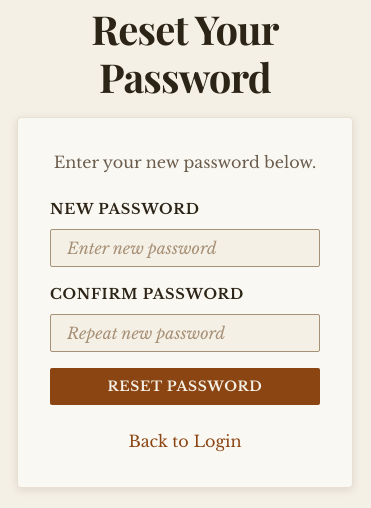
Test: PasswordResetConfirm › API interaction › should show success message after successful reset
Type "newpassword123" into the password field labelled "New Password" at (185, 248), box [50,229,320,267]
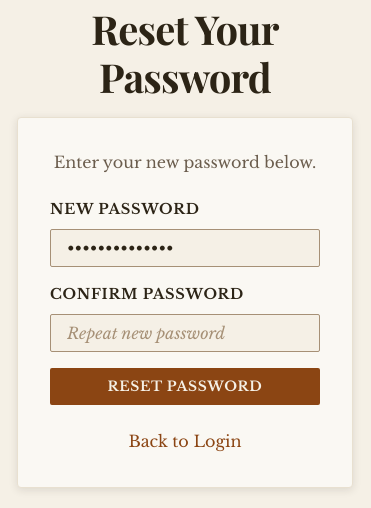
Type "newpassword123" into the password field labelled "Confirm Password" at (185, 333), box [50,314,320,352]
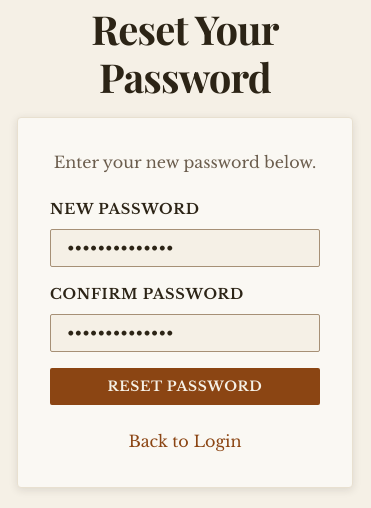
Submit the form, box [50,198,320,405]
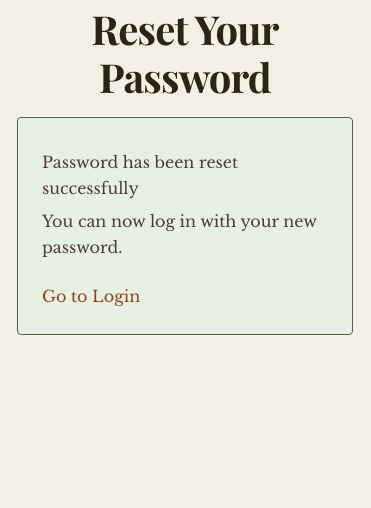
Now the text "Password has been reset successfully" is shown, box [42,152,238,198]
Now the text "You can now log in with your new password" is shown, box [42,211,316,257]
